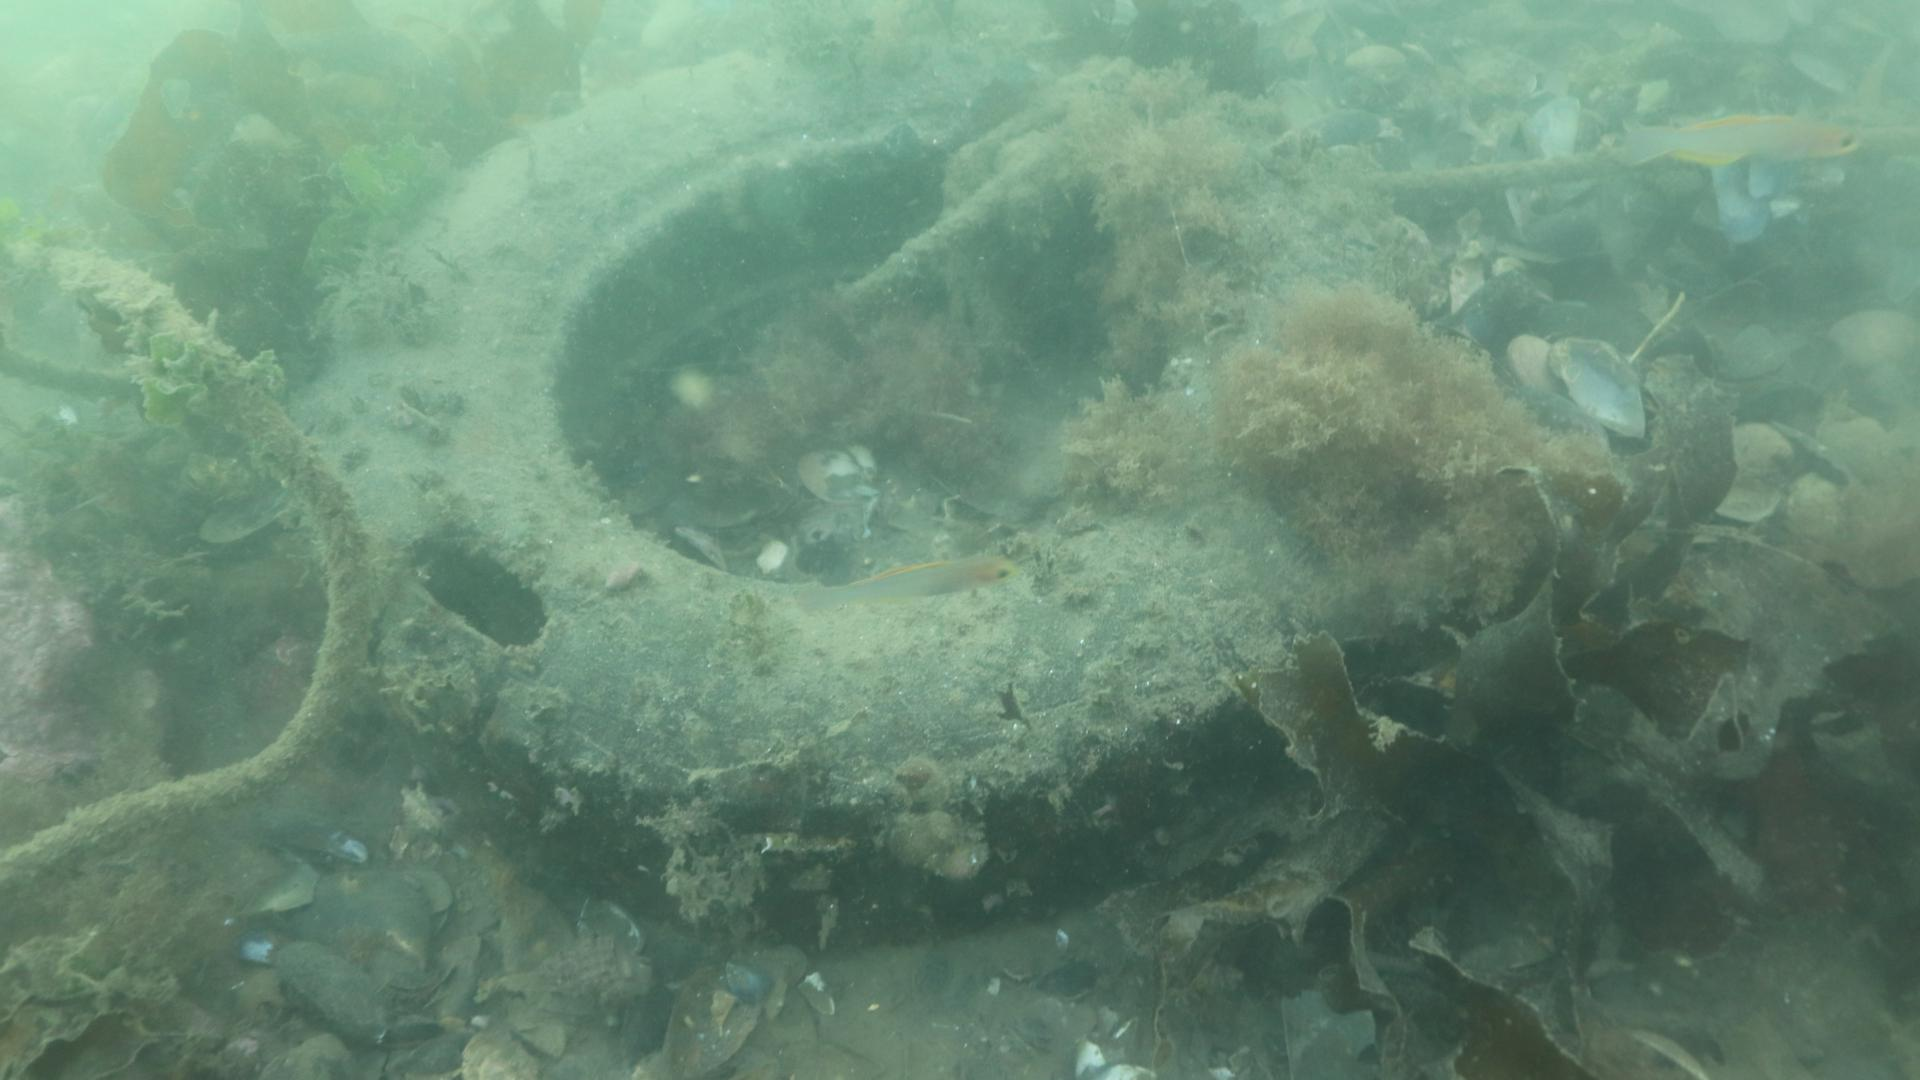rope: (0, 241, 372, 887), (837, 98, 1064, 375), (1370, 123, 1920, 194)
tire: (290, 44, 1403, 957)
